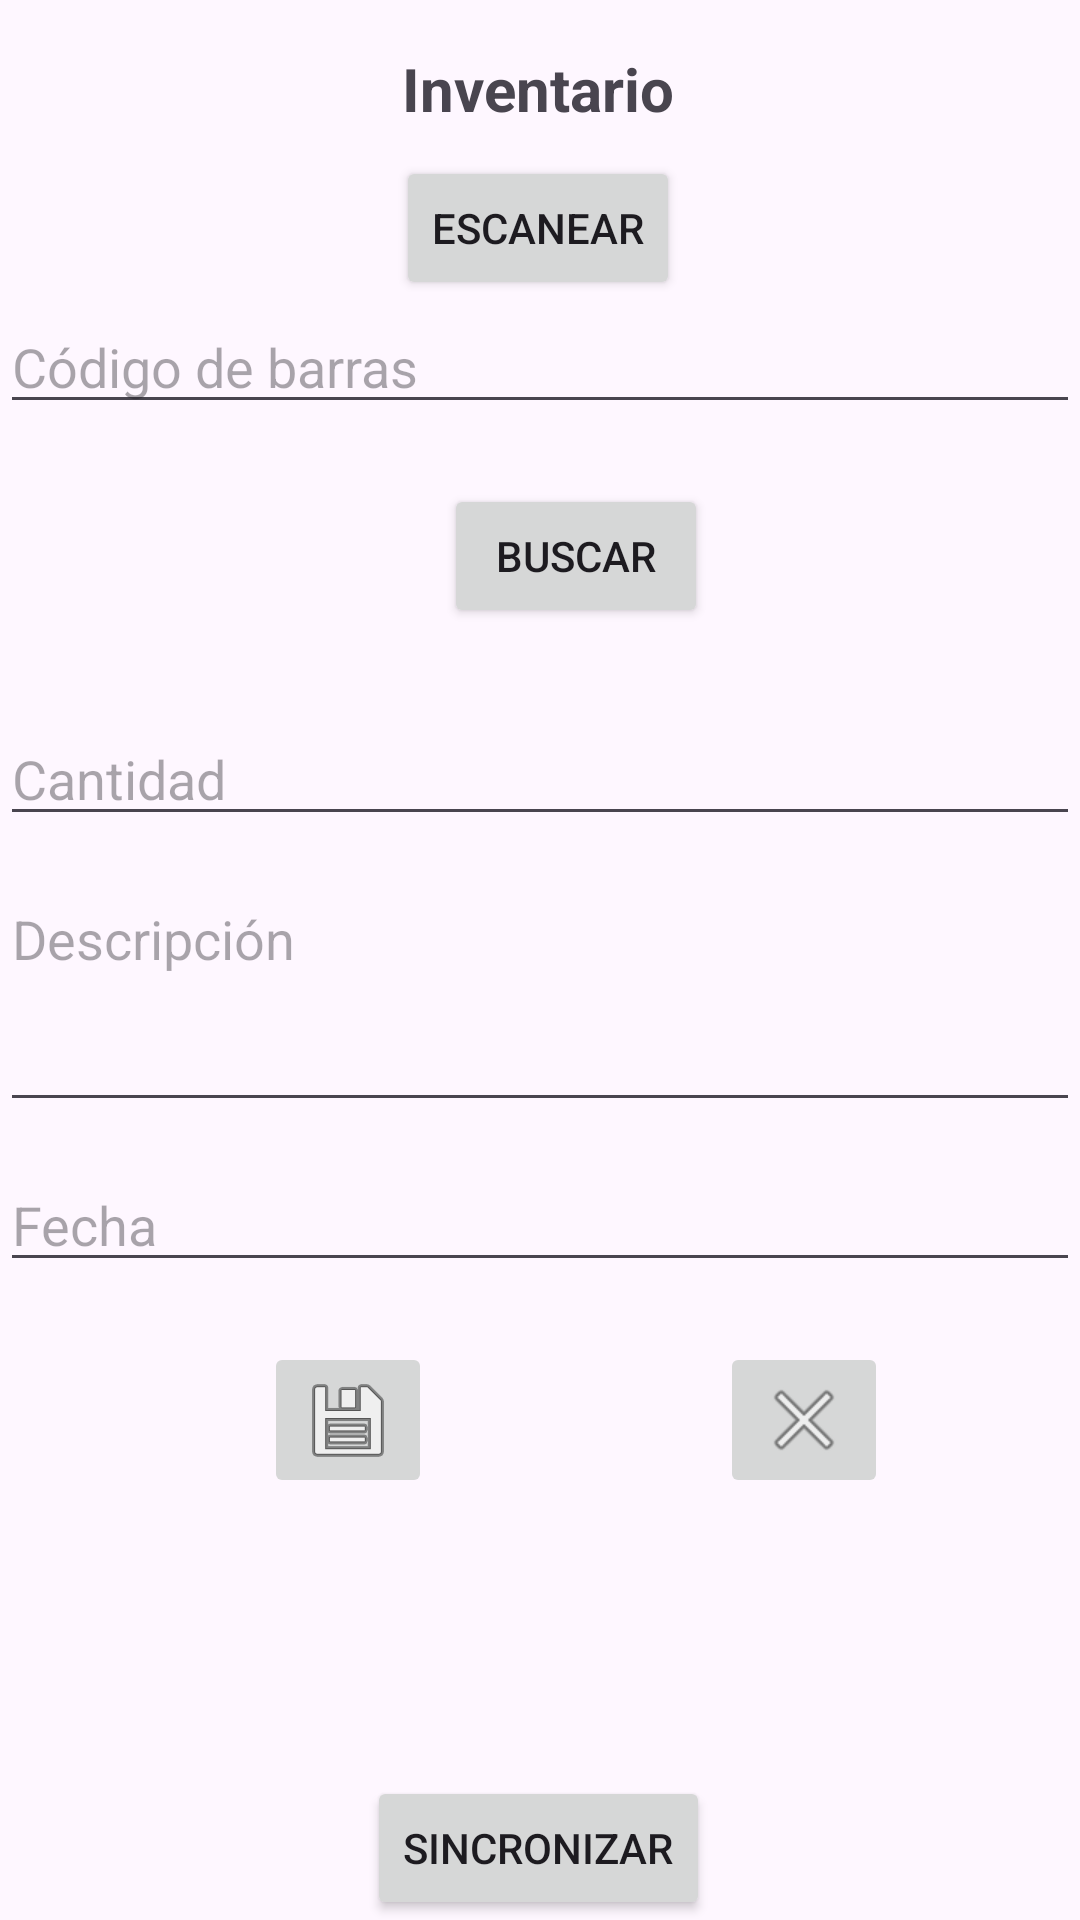

Icons on this 1080w x 1920h Android screen, each with the point to tap as (x,y):
Cancel: (804,1420)
Save: (348,1420)
